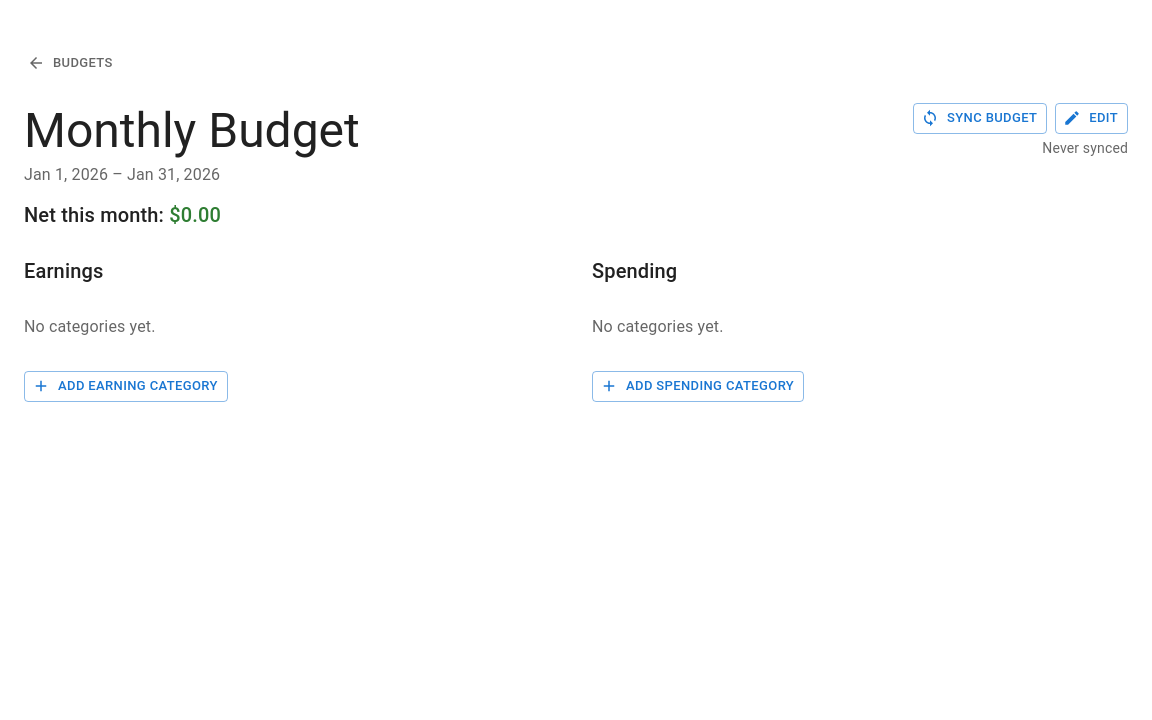
BudgetDetailPage add category › opens CreateBudgetLineDialog scoped to spending when "Add spending category" is clicked
This screenshot has width=1152, height=720.
Expected: the heading "Monthly Budget" is shown, [24,103,360,159]
Click the button "Add spending category" at (698, 386), box [592,371,804,402]
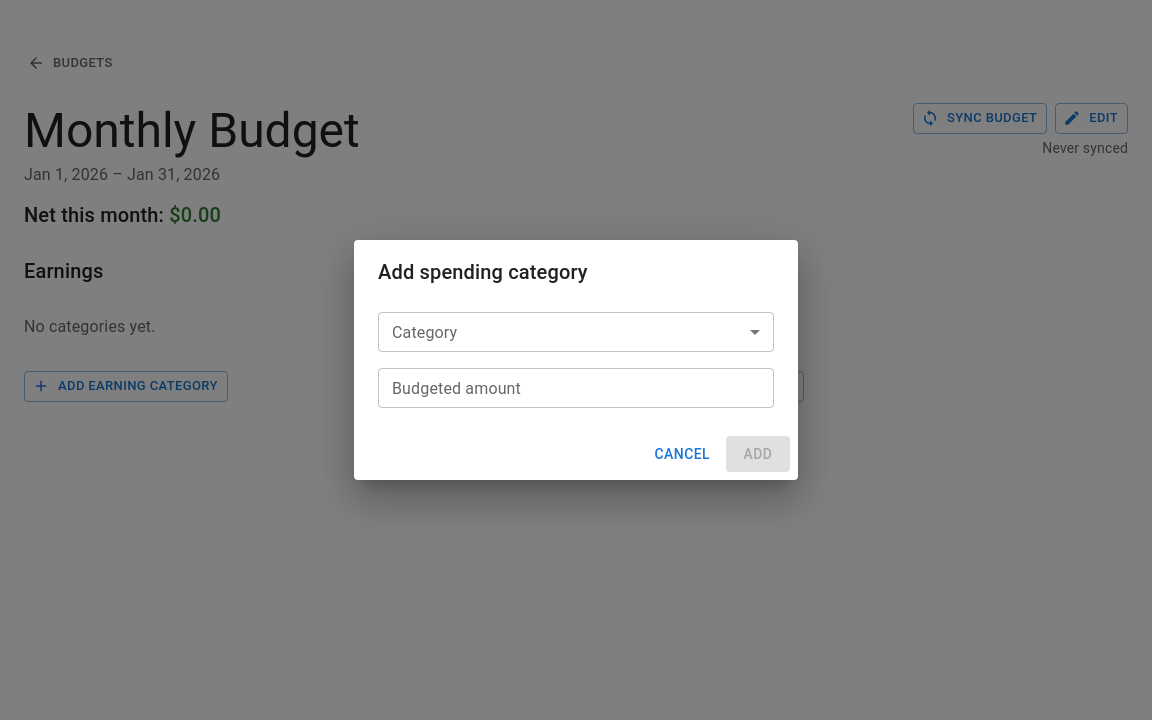
Expected: the heading "Add spending category" is shown, [378,260,588,284]
